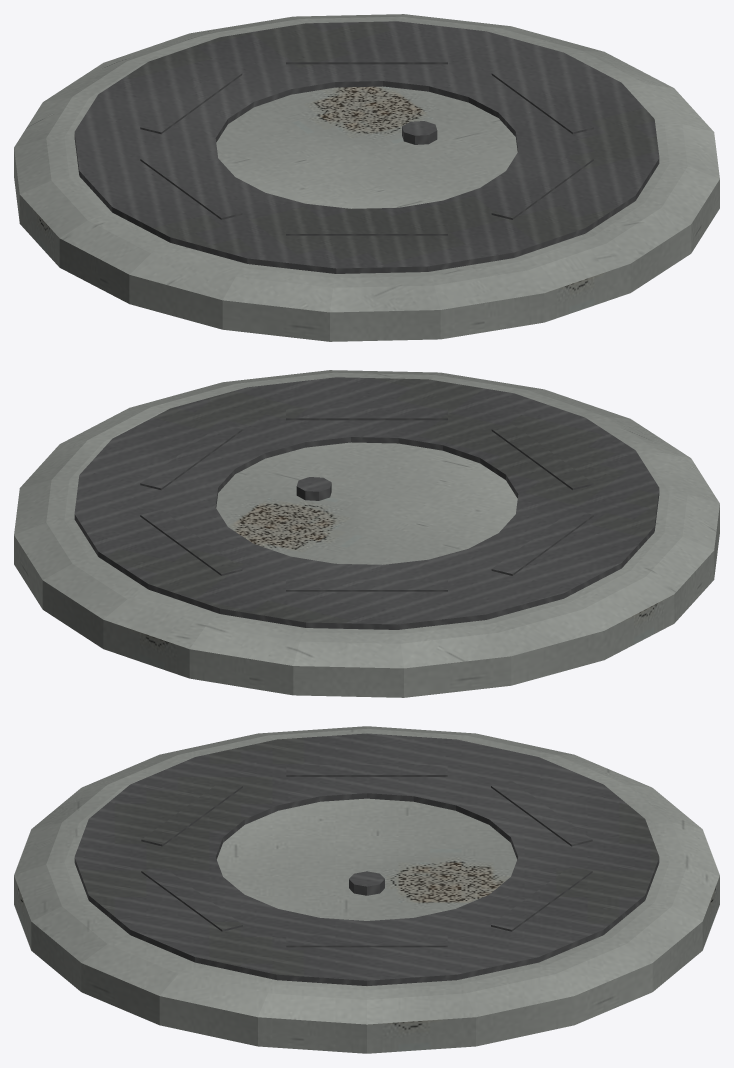
The model's file is manhole_v3.glb.
3 views of the same model, one above another, from view 1: azimuth 30°, elevation 25°; view 2: azimuth 150°, elevation 25°; view 3: azimuth 270°, elevation 25° (orthographic).
Visible parts, largest first — view 1: Variant_manhole_3; view 2: Variant_manhole_3; view 3: Variant_manhole_3.
Part boxes in pixels (x1,y1,x2,y2): Variant_manhole_3: [14, 14, 719, 341]; Variant_manhole_3: [14, 370, 719, 697]; Variant_manhole_3: [14, 726, 719, 1053].
Size of the model in its own units: 0.7 by 0.056 by 0.7.
Materials: 2 (2 with a texture image).
